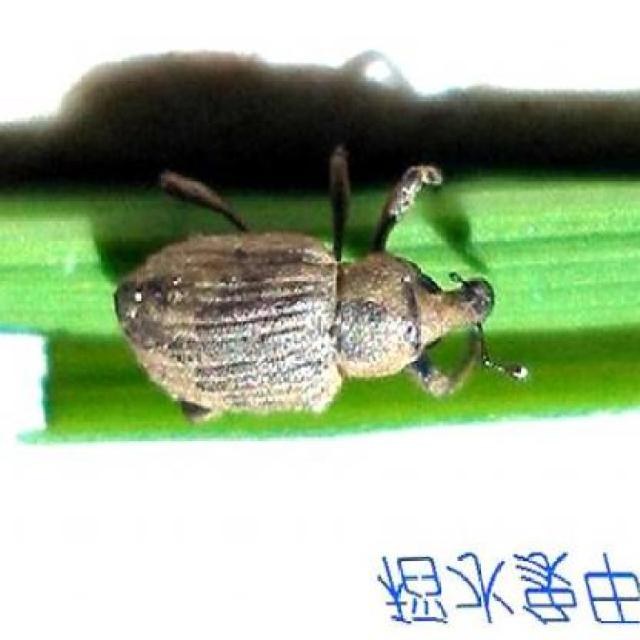rice-bug: (115, 138, 497, 425)
